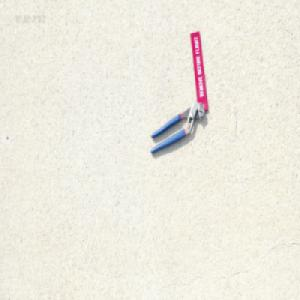Label: (189, 32, 208, 110)
Pliers: (149, 101, 205, 153)
